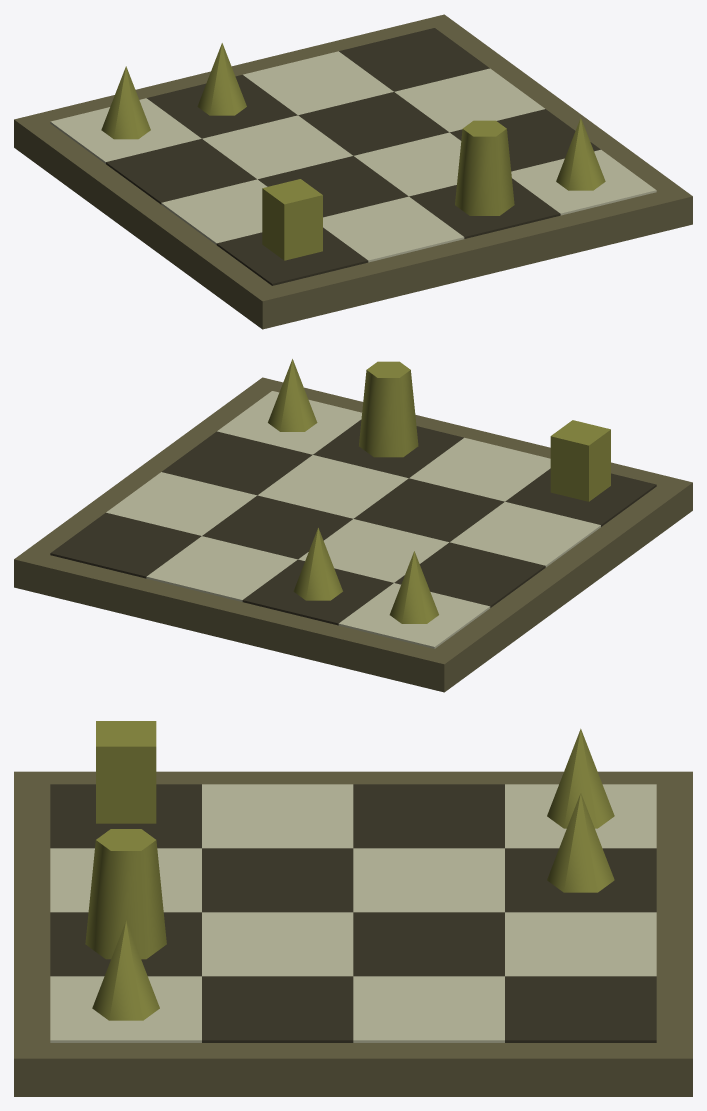
File: village_chess.glb
3 renders of one model, top to bottom at view 1: azimuth 30°, elevation 25°; view 2: azimuth 150°, elevation 25°; view 3: azimuth 270°, elevation 25°, orthographic. The views are drawn at different scales.
Parts seen in each view (by area): view 1: ch_frame, ch_sq_13, ch_sq_01, ch_sq_20, ch_sq_21, ch_sq_11, ch_sq_30, ch_sq_31, ch_king_a, ch_rook_a, ch_sq_22, ch_sq_02 (+10 smaller); view 2: ch_frame, ch_sq_30, ch_sq_20, ch_sq_02, ch_sq_32, ch_sq_31, ch_sq_12, ch_sq_22, ch_sq_13, ch_sq_21, ch_sq_01, ch_king_a (+10 smaller); view 3: ch_frame, ch_sq_30, ch_sq_31, ch_sq_32, ch_sq_01, ch_sq_11, ch_sq_20, ch_sq_21, ch_sq_02, ch_sq_12, ch_sq_22, ch_king_a (+10 smaller).
Part boxes in pixels (x1,y1,x2,y2): ch_frame: [14, 14, 692, 329]; ch_sq_13: [323, 196, 464, 262]; ch_sq_01: [106, 139, 256, 204]; ch_sq_20: [243, 51, 393, 115]; ch_sq_21: [298, 92, 449, 155]; ch_sq_11: [202, 115, 352, 179]; ch_sq_30: [339, 28, 489, 91]; ch_sq_31: [394, 68, 544, 132]; ch_king_a: [455, 120, 514, 215]; ch_rook_a: [262, 179, 322, 260]; ch_sq_22: [354, 132, 461, 196]; ch_sq_02: [161, 179, 267, 244]; ch_frame: [14, 377, 692, 692]; ch_sq_30: [50, 512, 201, 578]; ch_sq_20: [146, 536, 297, 601]; ch_sq_02: [450, 502, 600, 567]; ch_sq_32: [162, 431, 312, 495]; ch_sq_31: [106, 472, 256, 535]; ch_sq_12: [354, 478, 504, 542]; ch_sq_22: [257, 455, 408, 518]; ch_sq_13: [409, 437, 550, 501]; ch_sq_21: [202, 495, 352, 559]; ch_sq_01: [394, 542, 545, 607]; ch_king_a: [359, 361, 418, 457]; ch_frame: [14, 771, 692, 1096]; ch_sq_30: [505, 976, 656, 1042]; ch_sq_31: [353, 976, 504, 1042]; ch_sq_32: [202, 976, 353, 1042]; ch_sq_01: [353, 784, 504, 848]; ch_sq_11: [353, 848, 504, 912]; ch_sq_20: [505, 912, 656, 976]; ch_sq_21: [353, 912, 504, 976]; ch_sq_02: [202, 784, 353, 848]; ch_sq_12: [202, 848, 353, 912]; ch_sq_22: [202, 912, 353, 976]; ch_king_a: [85, 829, 166, 959].
Bounding box in the file's own units: 0.56 × 0.1325 × 0.56.
